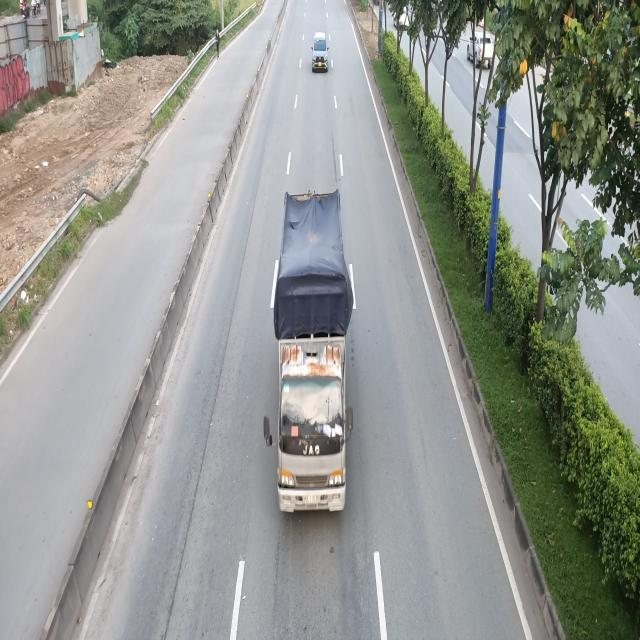car: (311, 32, 329, 74)
truck: (264, 190, 354, 516)
